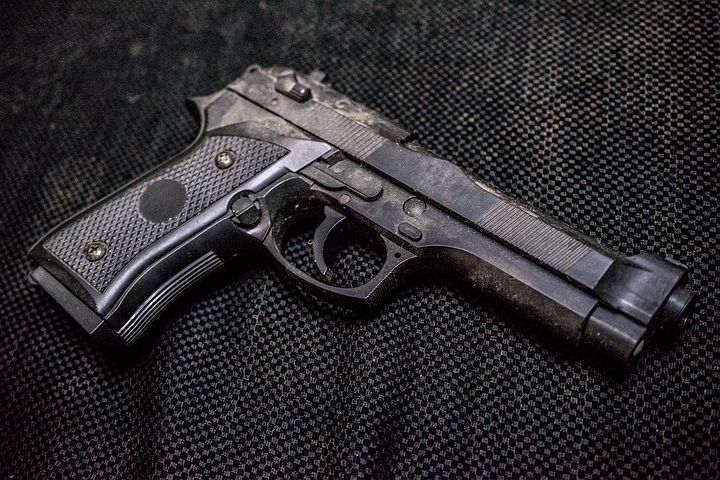gun: (24, 58, 701, 404)
